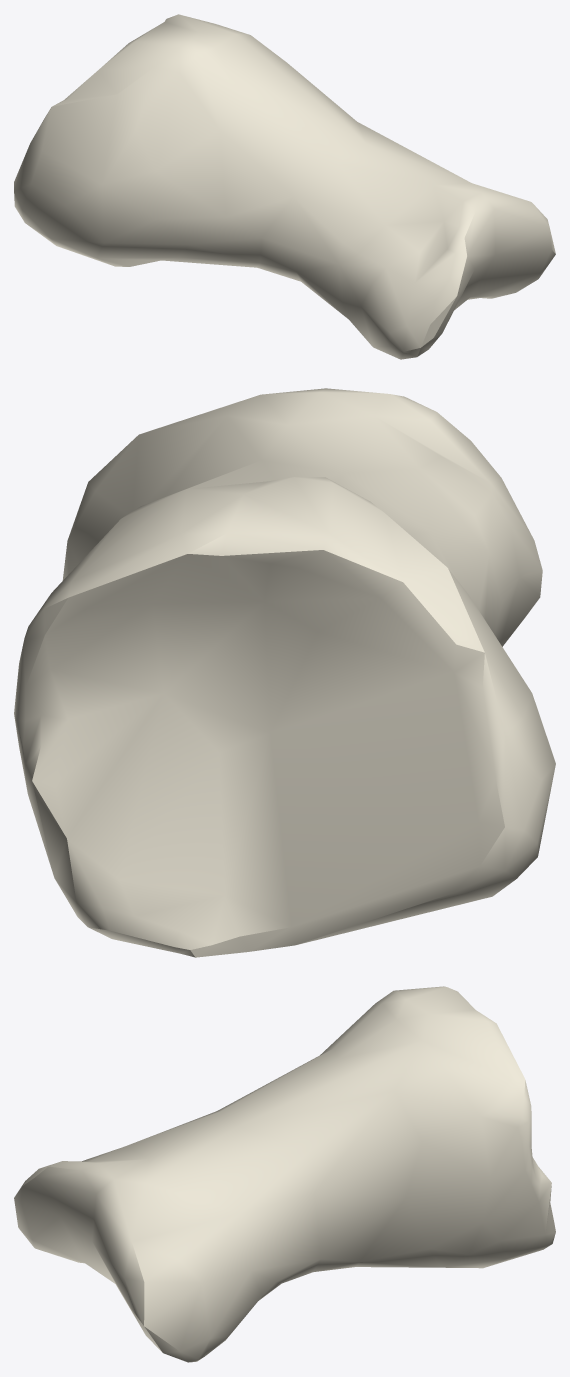
File: fma43254_fj6413.glb
3 views of the same model, one above another, from view 1: azimuth 30°, elevation 25°; view 2: azimuth 150°, elevation 25°; view 3: azimuth 270°, elevation 25° (orthographic). The views are drawn at different scales.
Visible parts, largest first — view 1: FMA43254_FJ6413; view 2: FMA43254_FJ6413; view 3: FMA43254_FJ6413.
Boxes of the visible parts, <box> form: FMA43254_FJ6413: <box>14,14,555,359</box>; FMA43254_FJ6413: <box>14,388,555,957</box>; FMA43254_FJ6413: <box>14,986,555,1362</box>.
Size of the model in its own units: 0.0302 by 0.0172 by 0.0335.
